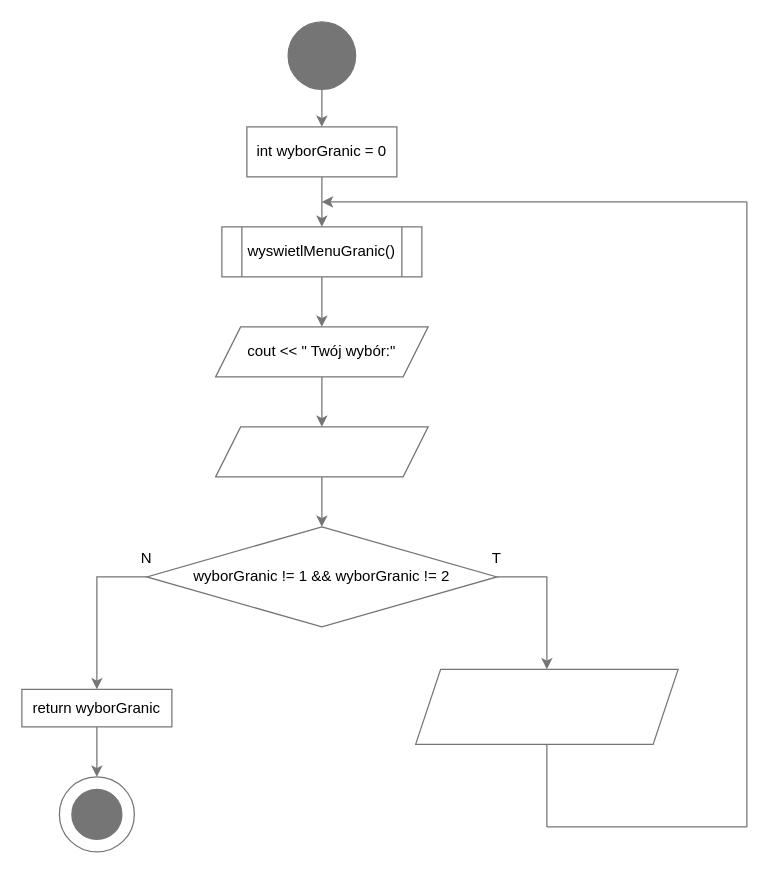
The diagram is 779 pixels wide and 874 high, and some of its shapes have lost their labels. Here are the shapes that lost their labels. From the top down, the centre of each, then its label:
(321,451): cin >> wyborFunkcji
(546,706): cout << " Nieprawidłowy wybór. Spróbuj ponownie."
